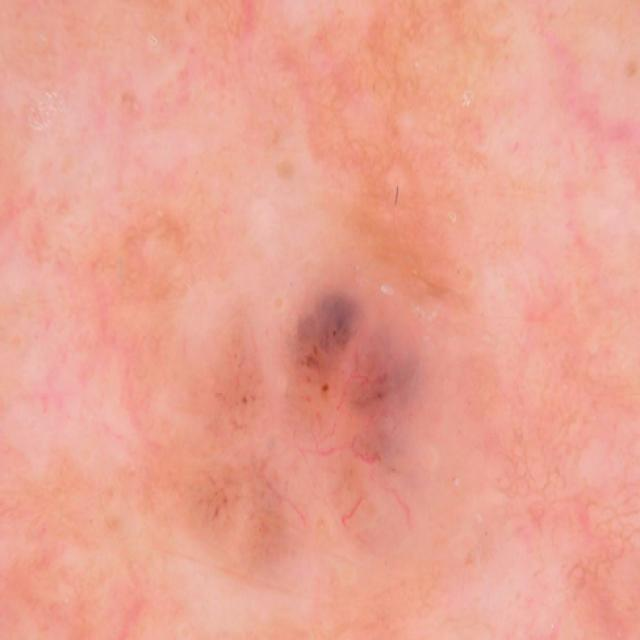Carcinoma: (191, 234, 490, 621)
